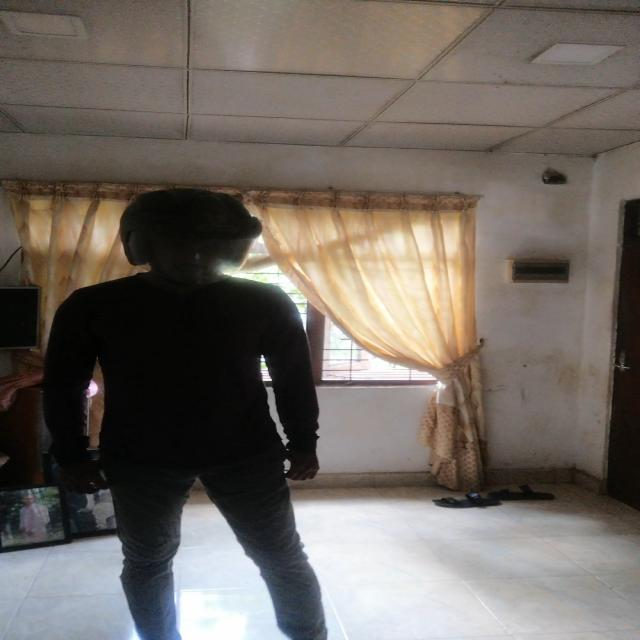Helmet_Wearer: (113, 188, 293, 288)
Person: (50, 184, 334, 632)
